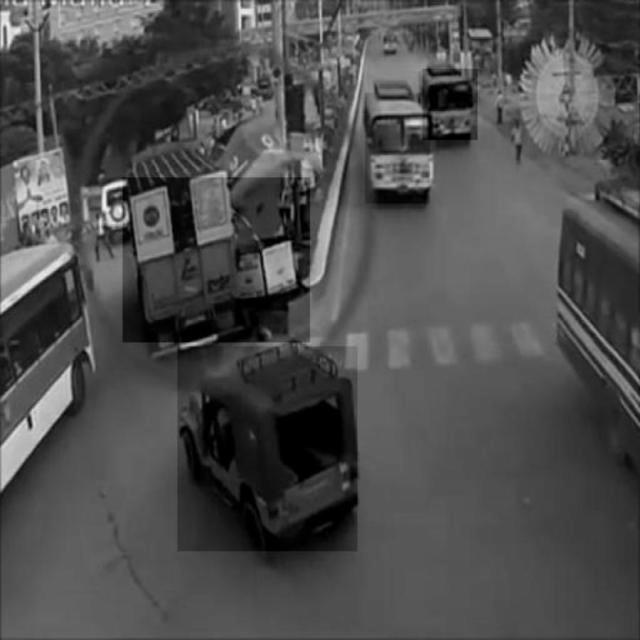accident: (123, 179, 310, 344)
person: (510, 117, 526, 167)
vehicle: (178, 347, 358, 552), (365, 93, 429, 204), (423, 69, 478, 140)
